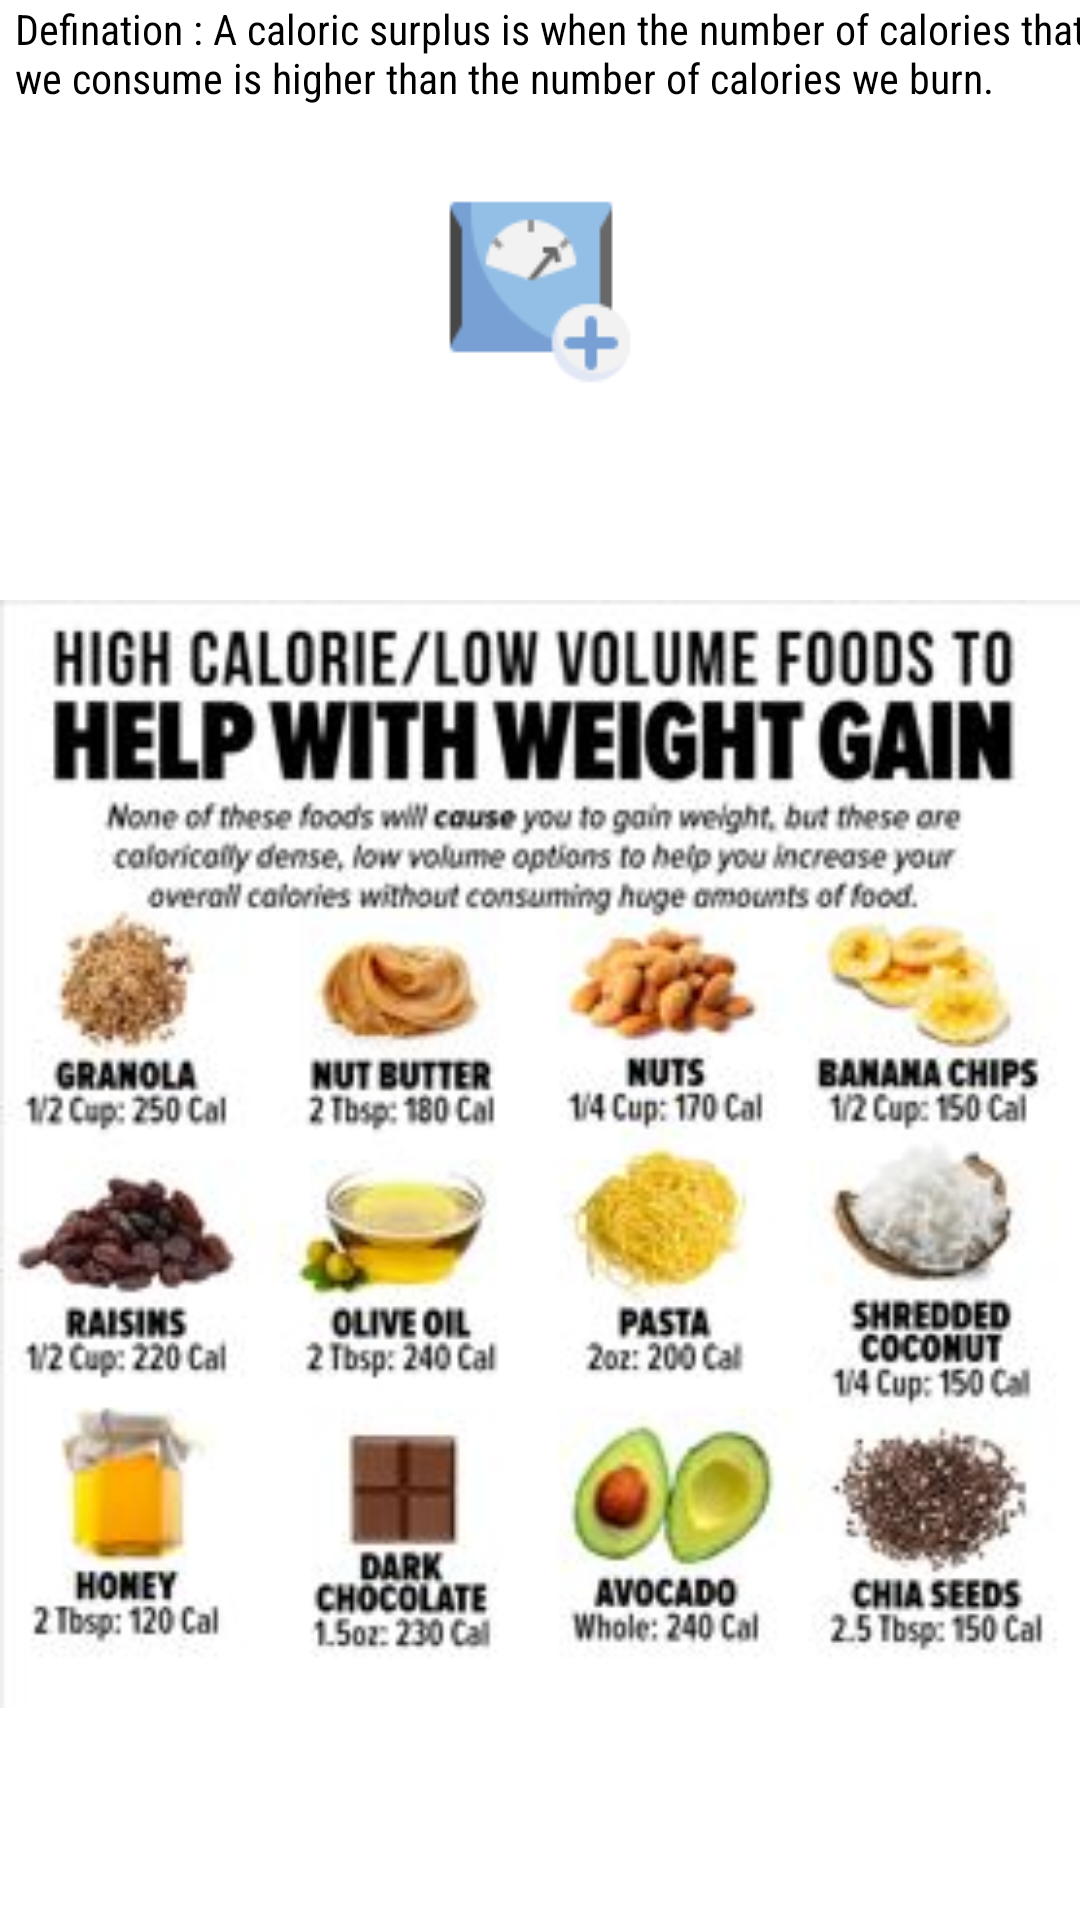

Icon click points for this 1080 × 1920 phone screenshot, format (x,y):
gainweight: (534,291)
